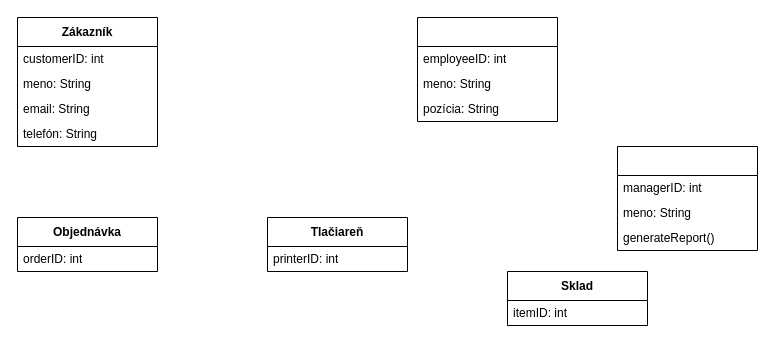
The diagram is 775 pixels wide and 343 high, and some of its shapes have lost their labels. The box of each missing label's shape, as (x1, y1, x2, y2) in pixels:
Riadiaci pracovník: (616, 146, 758, 250)
Zamestnanec: (416, 16, 558, 122)
